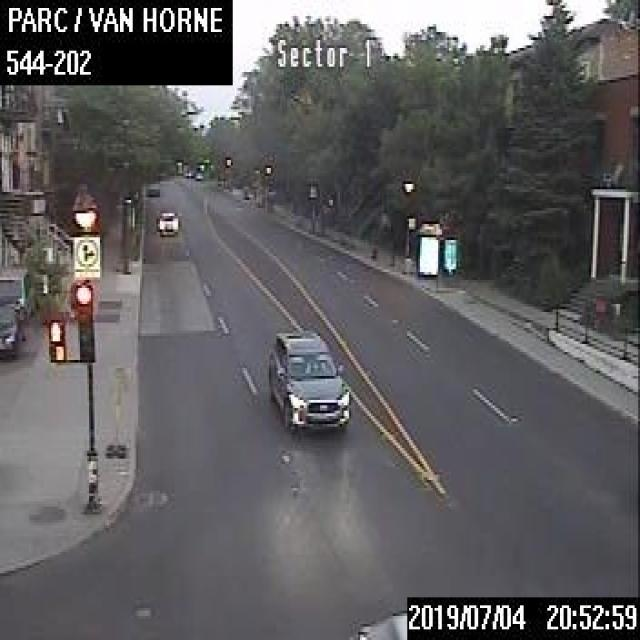vehicle: (266, 327, 349, 429), (0, 264, 33, 323), (346, 606, 404, 638), (0, 294, 27, 358), (155, 207, 178, 235), (146, 180, 158, 194)
